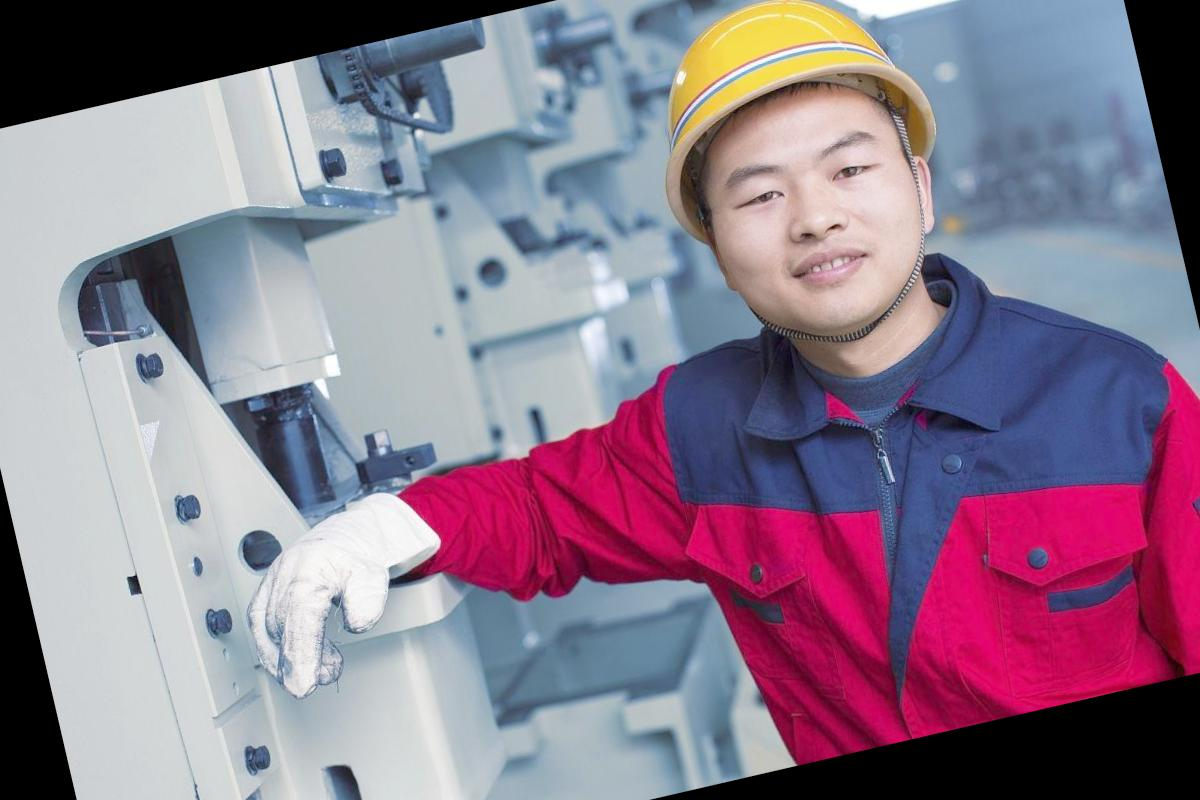helmet: (613, 0, 946, 233)
no_vest: (565, 255, 1200, 793)
person: (445, 0, 1200, 800)
